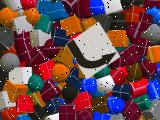Left: (66, 22, 120, 80)
